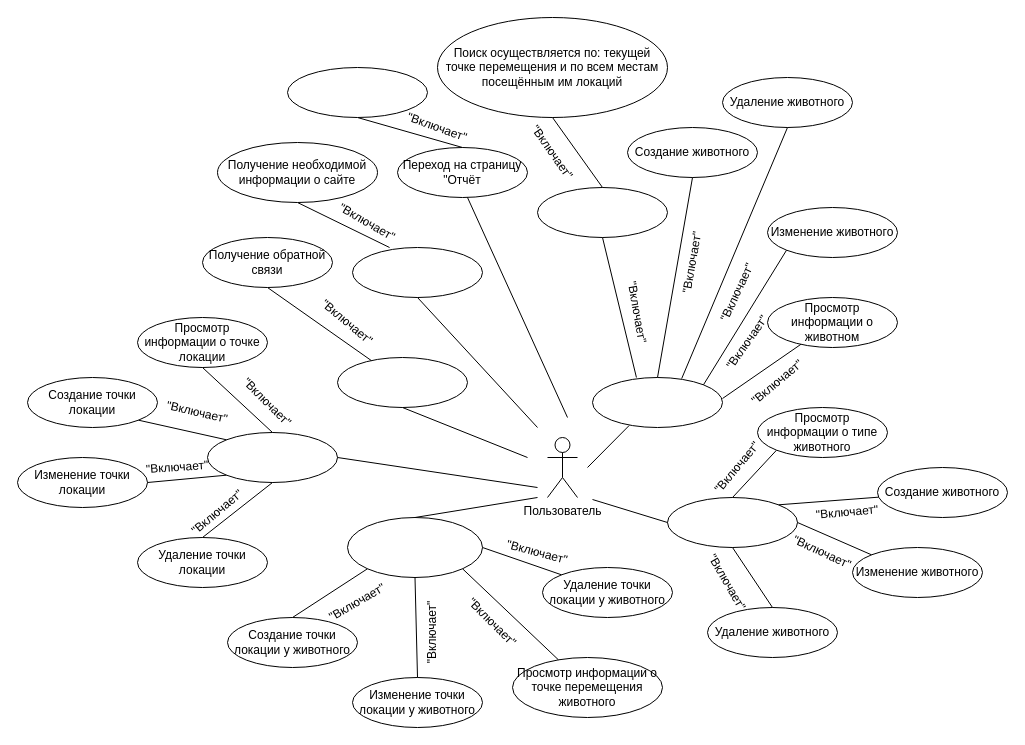
This 1025x745 diagram has some shape labels left out. Here are the shapes that lost their labels. From the top down, the centre of each, then its label:
pixel 357 92: Получение отчёта по животным
pixel 602 212: Поиск животного
pixel 417 272: Переход на страницу "Справка
pixel 402 382: Переход на страницу "Обратная связь
pixel 657 402: Работа с таблицей "Животное"
pixel 272 457: Работа с таблицей "Локация"
pixel 732 522: Работа с таблицей "Тип животного"
pixel 414 547: Работа с таблицей "Точки перемещения"
